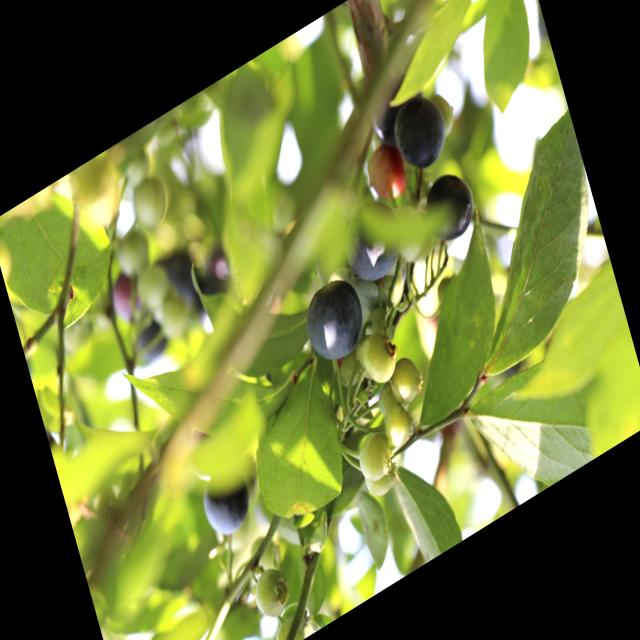blueberry: (298, 270, 368, 373), (341, 192, 407, 290), (388, 88, 452, 182), (420, 162, 481, 250), (198, 460, 255, 543)
blueberry-halfripe: (364, 136, 411, 208)
blueberry-unripe: (351, 426, 400, 498), (354, 327, 398, 393), (249, 562, 292, 624), (386, 356, 426, 410), (379, 397, 416, 448)
